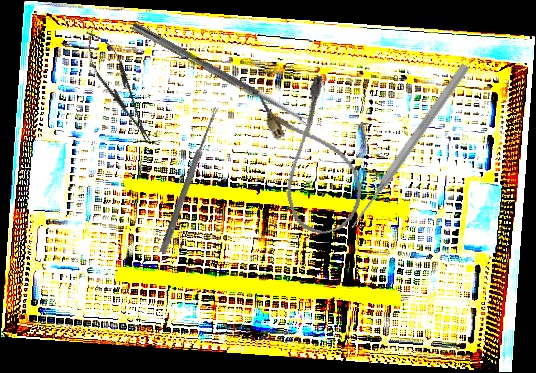Cannula: (256, 73, 371, 242)
Needle Holder: (75, 23, 162, 150)
Pusher: (346, 61, 472, 232)
Surgical Spoon: (130, 22, 314, 129), (159, 105, 220, 255)
